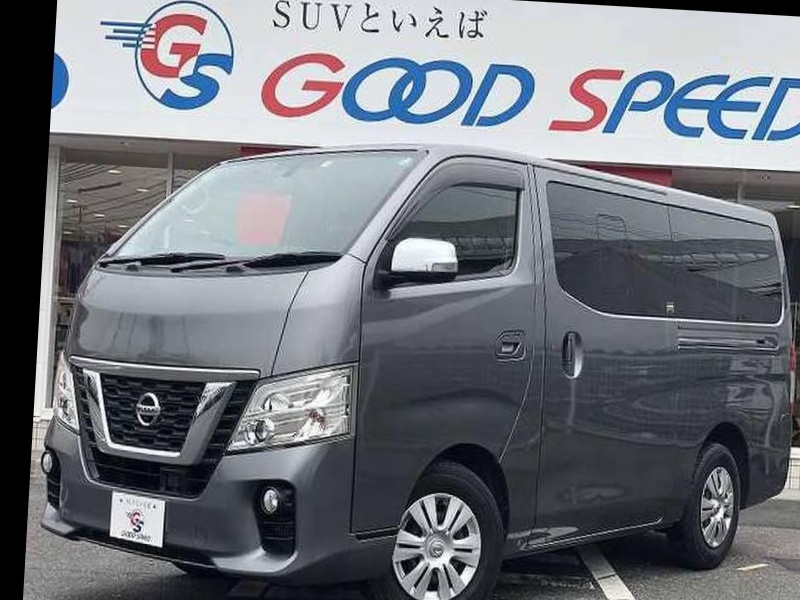van: (42, 130, 800, 600)
